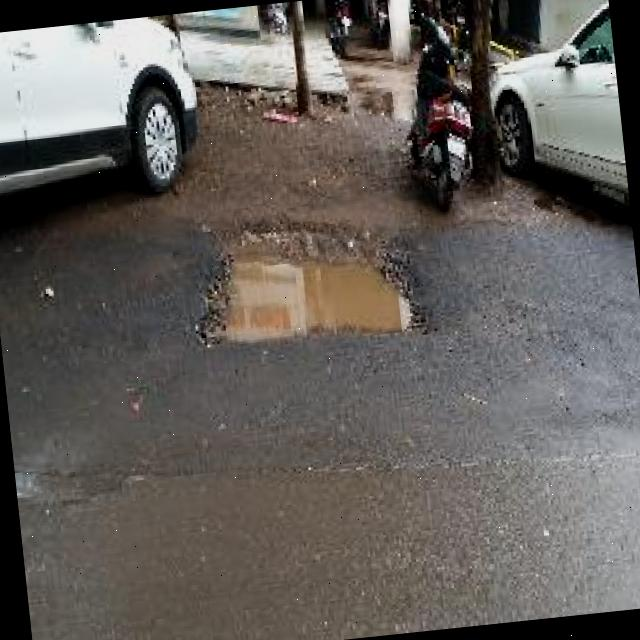stagnation: (182, 192, 439, 372)
